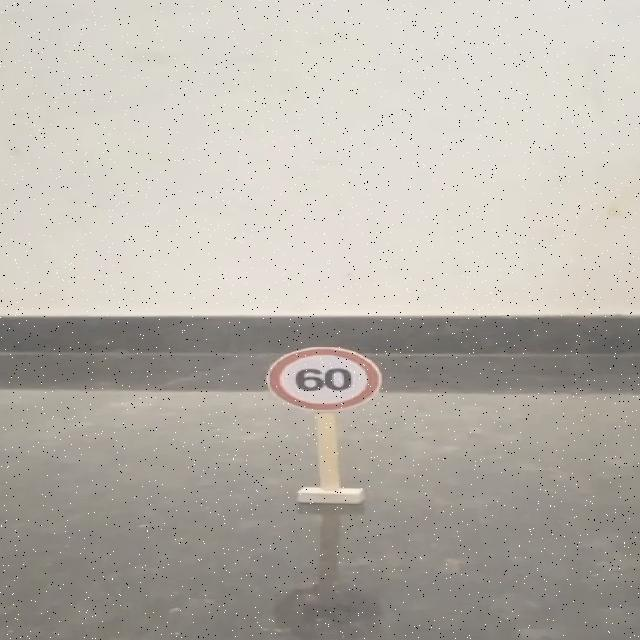Speed60: (264, 345, 387, 414)
